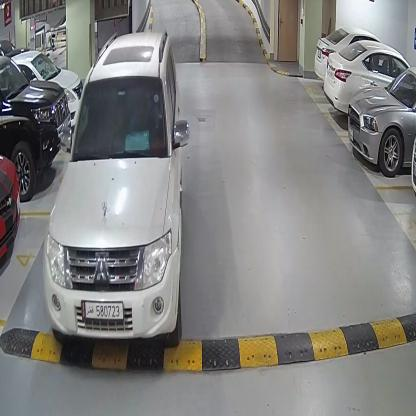np: (81, 300, 124, 320)
